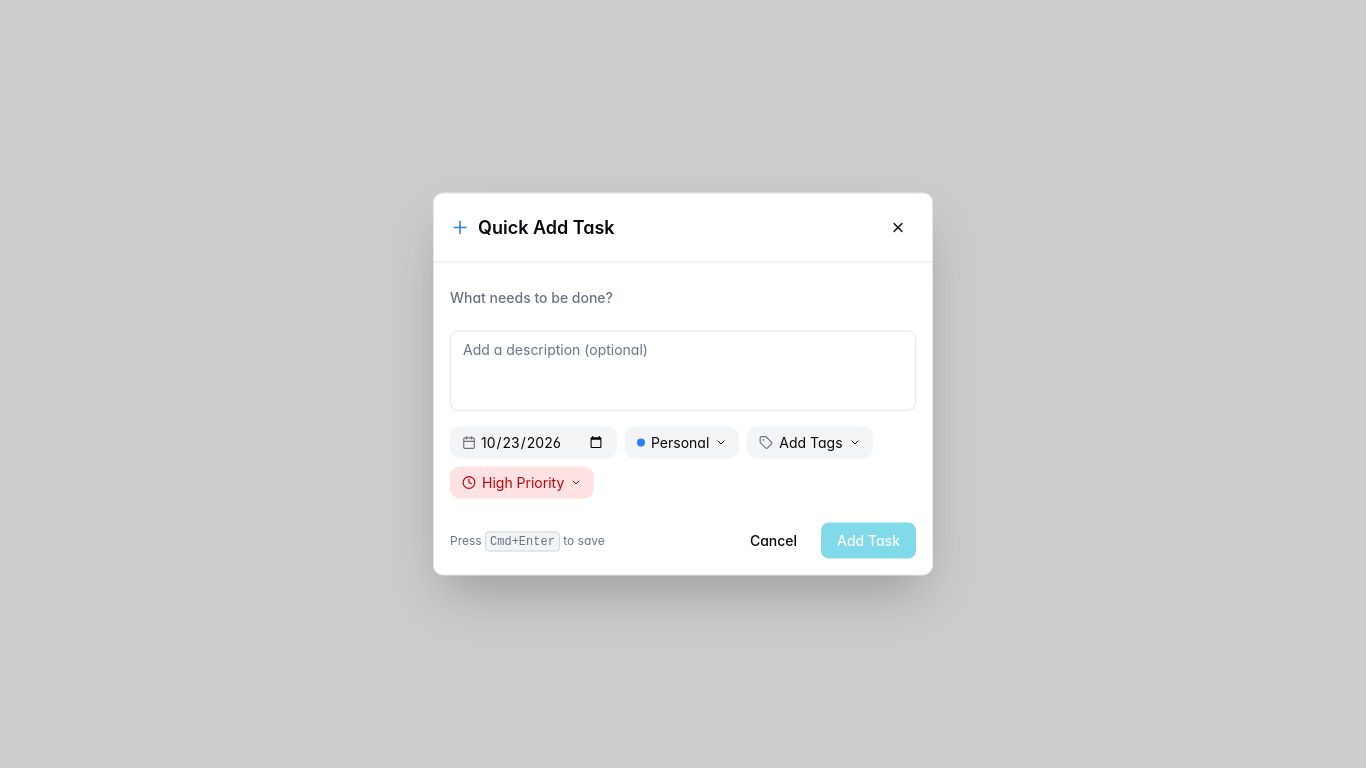
Test: QuickAddTask NL prefill (S5) › shows parsed preview badges while typing
Step 1. Type "informe viernes 9h #personal" into the field with placeholder "What needs to be done?" → (683, 296), box 450,278 -> 916,314
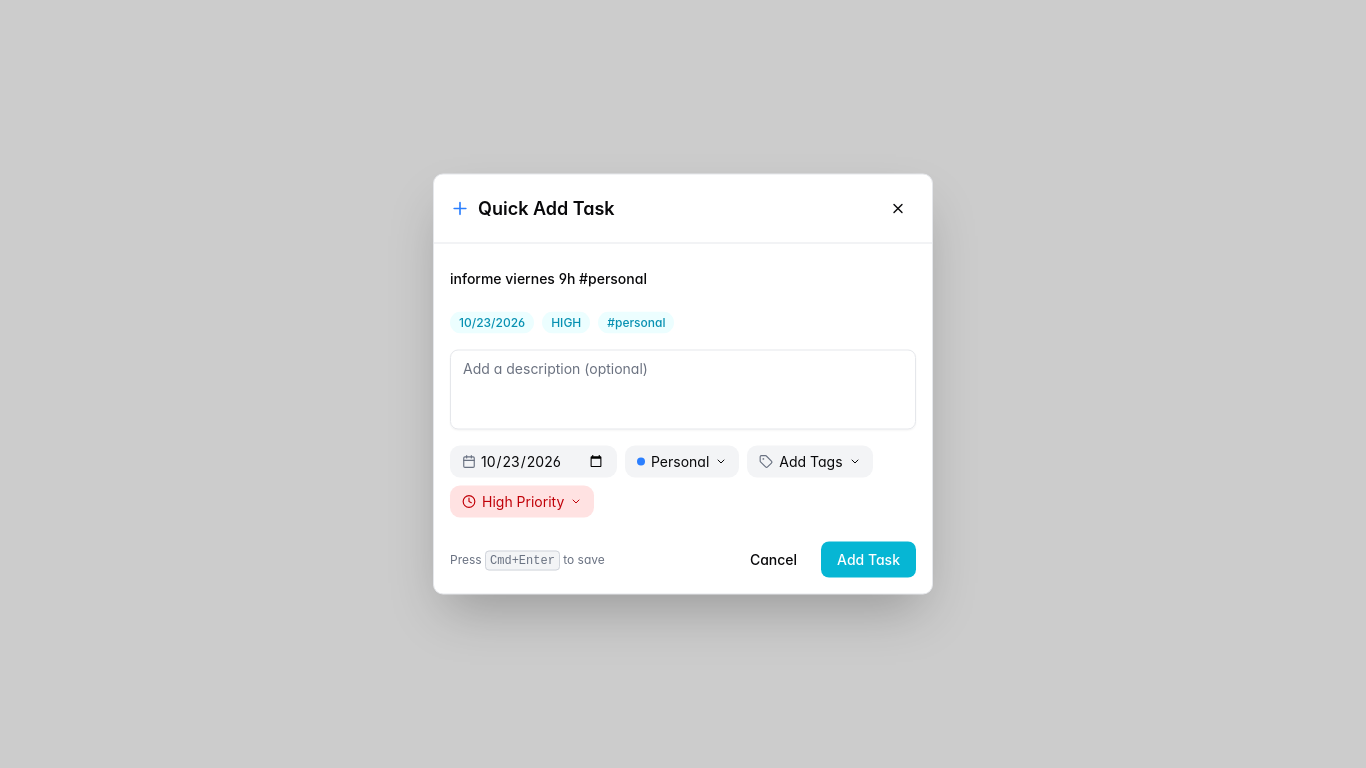
Check: the text "10/23/2026" is shown, box 450,312 -> 534,334
Check: the text "HIGH" is shown, box 542,312 -> 590,334
Check: the text "#personal" is shown, box 598,312 -> 674,334
